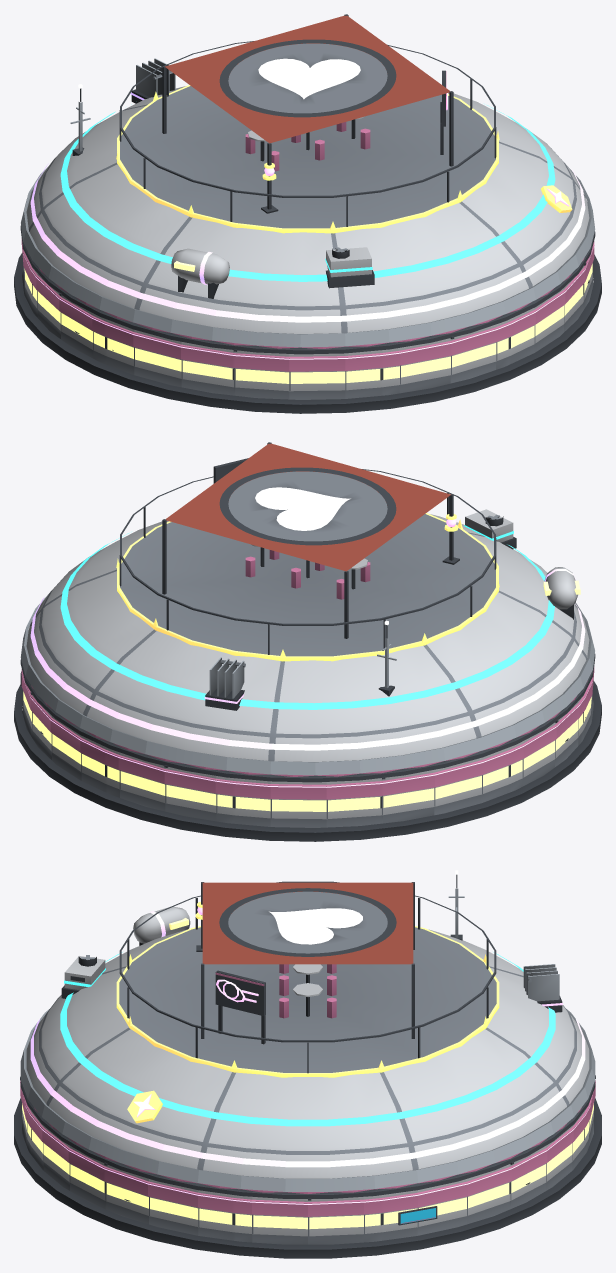
File: cantina_m.glb
3 renders of one model, top to bottom at view 1: azimuth 30°, elevation 25°; view 2: azimuth 150°, elevation 25°; view 3: azimuth 270°, elevation 25°, orthographic.
Parts seen in each view (by area): view 1: Roof, Base, L3, L5, L4, Wall_21, Wall_20, Wall_22, Wall_19, Wall_23, Wall_18, Wall_24 (+16 smaller); view 2: Roof, Base, L3, L5, L4, Wall_10, Wall_11, Wall_09, Wall_12, Wall_08, Wall_13, Wall_07 (+17 smaller); view 3: Roof, Base, L3, L5, L4, Wall_00, Wall_31, Wall_30, Wall_29, Wall_01, Wall_02, Wall_28 (+18 smaller).
Boxes of the visible parts, x1=… form: Roof: x1=20, y1=14, x2=595, y2=354; Base: x1=14, y1=253, x2=601, y2=413; L3: x1=60, y1=104, x2=555, y2=288; L5: x1=116, y1=85, x2=572, y2=233; L4: x1=130, y1=58, x2=229, y2=298; Wall_21: x1=289, y1=353, x2=345, y2=399; Wall_20: x1=233, y1=349, x2=289, y2=399; Wall_22: x1=345, y1=348, x2=400, y2=398; Wall_19: x1=181, y1=342, x2=233, y2=395; Wall_23: x1=399, y1=338, x2=451, y2=393; Wall_18: x1=133, y1=330, x2=181, y2=387; Wall_24: x1=450, y1=324, x2=497, y2=383; Roof: x1=20, y1=442, x2=595, y2=782; Base: x1=14, y1=681, x2=601, y2=841; L3: x1=60, y1=509, x2=554, y2=709; L5: x1=116, y1=513, x2=499, y2=661; L4: x1=204, y1=567, x2=580, y2=710; Wall_10: x1=270, y1=781, x2=326, y2=827; Wall_11: x1=326, y1=778, x2=382, y2=827; Wall_09: x1=215, y1=776, x2=270, y2=826; Wall_12: x1=382, y1=770, x2=434, y2=823; Wall_08: x1=164, y1=765, x2=216, y2=821; Wall_13: x1=434, y1=758, x2=482, y2=815; Wall_07: x1=118, y1=752, x2=165, y2=811; Roof: x1=20, y1=881, x2=595, y2=1198; Base: x1=14, y1=1098, x2=601, y2=1258; L3: x1=60, y1=952, x2=555, y2=1126; L5: x1=116, y1=902, x2=499, y2=1123; L4: x1=133, y1=906, x2=562, y2=1012; Wall_00: x1=308, y1=1197, x2=363, y2=1244; Wall_31: x1=252, y1=1197, x2=307, y2=1244; Wall_30: x1=198, y1=1190, x2=252, y2=1242; Wall_29: x1=148, y1=1179, x2=198, y2=1235; Wall_01: x1=363, y1=1190, x2=417, y2=1242; Wall_02: x1=417, y1=1179, x2=467, y2=1235; Wall_28: x1=104, y1=1162, x2=148, y2=1224.
Size of the model in its own units: 14.75 by 5.95 by 14.75.
